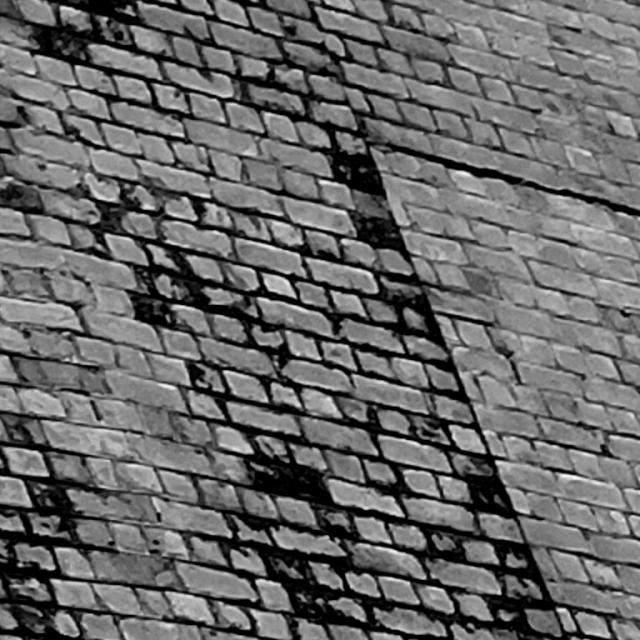crack: (387, 142, 640, 215)
